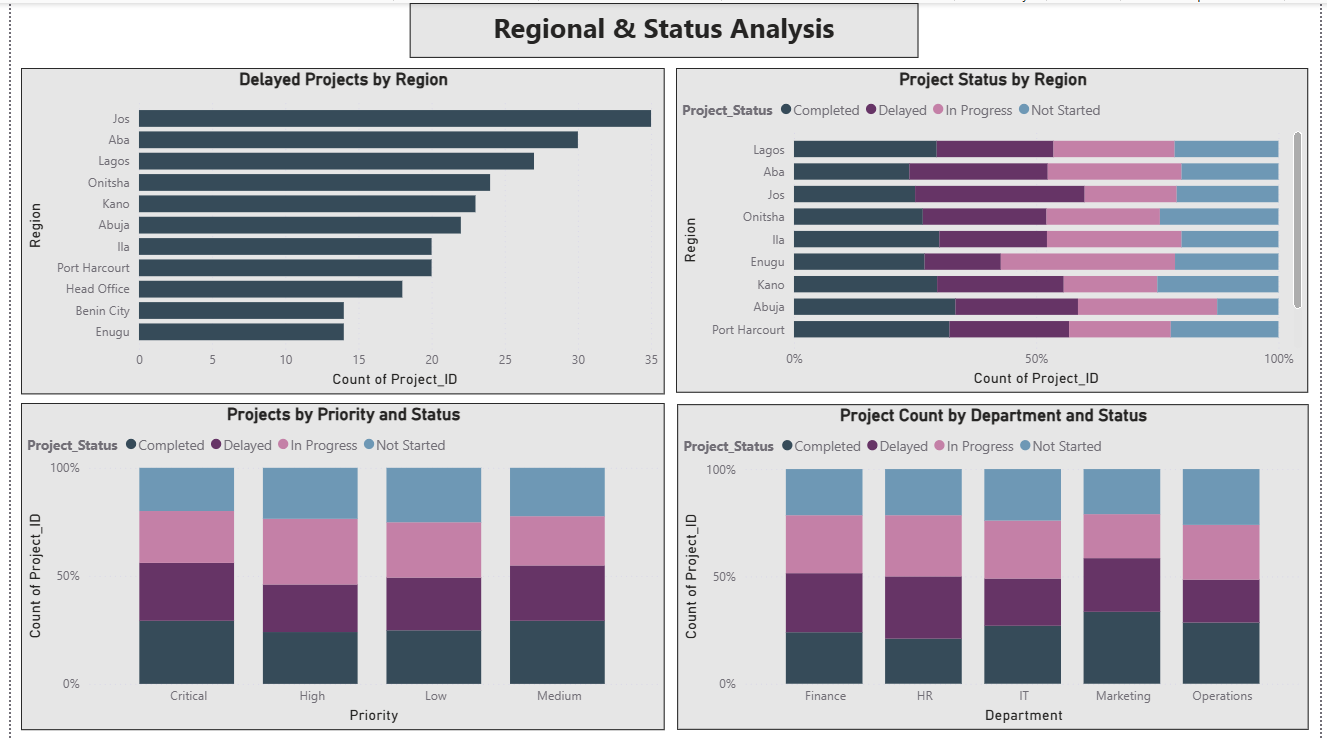

The dashboard page shown, as its layout file describes it:
{"tool":"powerbi","page":{"name":"Regional & Status Analysis","canvas":[1280,720],"ordinal":2},"visuals":[{"type":"textbox","box":[390.1,0,497.7,53.8],"z":0},{"type":"clusteredBarChart","title":"Delayed Projects by Region","fields":{"Category":["project_portfolio_clean.Region"],"Y":["CountNonNull(project_portfolio_clean.Project_ID)"]},"box":[9.8,63.6,629.8,319.2],"z":1000},{"type":"hundredPercentStackedBarChart","title":"Project Status by Region","fields":{"Category":["project_portfolio_clean.Region"],"Y":["CountNonNull(project_portfolio_clean.Project_ID)"],"Series":["project_portfolio_clean.Project_Status"]},"box":[650.5,63.6,618.8,317.9],"z":2000},{"type":"hundredPercentStackedColumnChart","title":"Projects by Priority and Status","fields":{"Category":["project_portfolio_clean.Priority"],"Y":["CountNonNull(project_portfolio_clean.Project_ID)"],"Series":["project_portfolio_clean.Project_Status"]},"box":[9.6,391.1,629.8,319.7],"z":3000},{"type":"hundredPercentStackedColumnChart","title":"Project Count by Department and Status","fields":{"Category":["project_portfolio_clean.Department"],"Y":["CountNonNull(project_portfolio_clean.Project_ID)"],"Series":["project_portfolio_clean.Project_Status"]},"box":[651.8,392.5,617.5,318.4],"z":4000}]}

Visuals, with their boxes in screenshot pixels (x1, y1, x2, y2), scaled from the page's 1280x720 canvas onto the 1327x738 screenshot:
textbox: pyautogui.locateOnScreen(404, 0, 920, 55)
"Delayed Projects by Region" clusteredBarChart: pyautogui.locateOnScreen(10, 65, 663, 392)
"Project Status by Region" hundredPercentStackedBarChart: pyautogui.locateOnScreen(674, 65, 1316, 391)
"Projects by Priority and Status" hundredPercentStackedColumnChart: pyautogui.locateOnScreen(10, 401, 663, 729)
"Project Count by Department and Status" hundredPercentStackedColumnChart: pyautogui.locateOnScreen(676, 402, 1316, 729)
